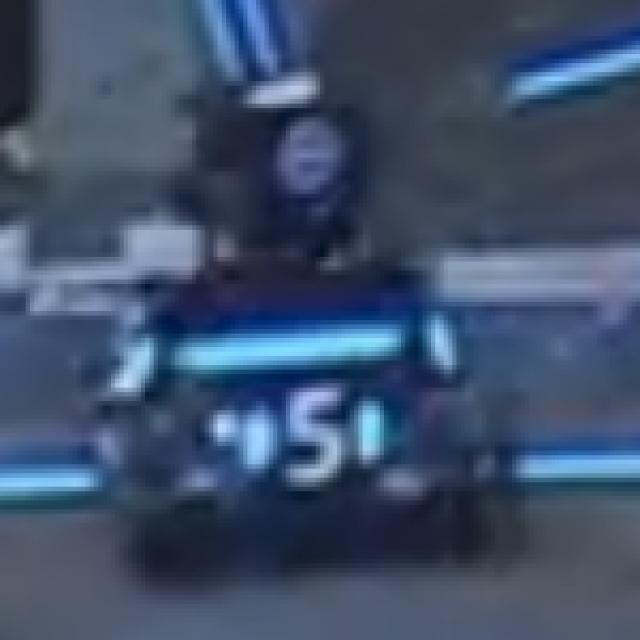B5: (239, 388, 380, 487)
